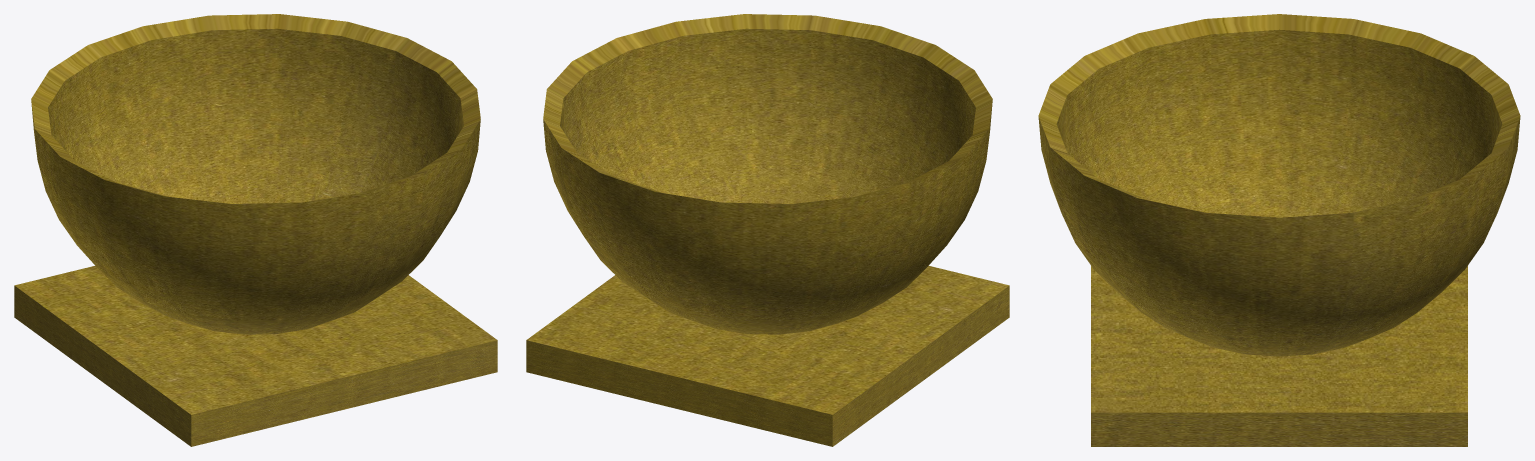
The model's file is bigpotfire.fbx.
3 views of the same model, side by side, from view 1: azimuth 30°, elevation 25°; view 2: azimuth 150°, elevation 25°; view 3: azimuth 270°, elevation 25° (orthographic). The views are drawn at different scales.
Visible parts, largest first — view 1: pSphere1, pCube1; view 2: pSphere1, pCube1; view 3: pSphere1, pCube1.
Boxes of the visible parts, <box> form: pSphere1: <box>31,14,480,334</box>; pCube1: <box>14,265,497,446</box>; pSphere1: <box>543,14,992,334</box>; pCube1: <box>526,265,1009,446</box>; pSphere1: <box>1038,14,1520,356</box>; pCube1: <box>1091,266,1467,446</box>.
Size of the model in its own units: 24.5 by 14.1 by 24.5.
Materials: 1 (1 with a texture image).
